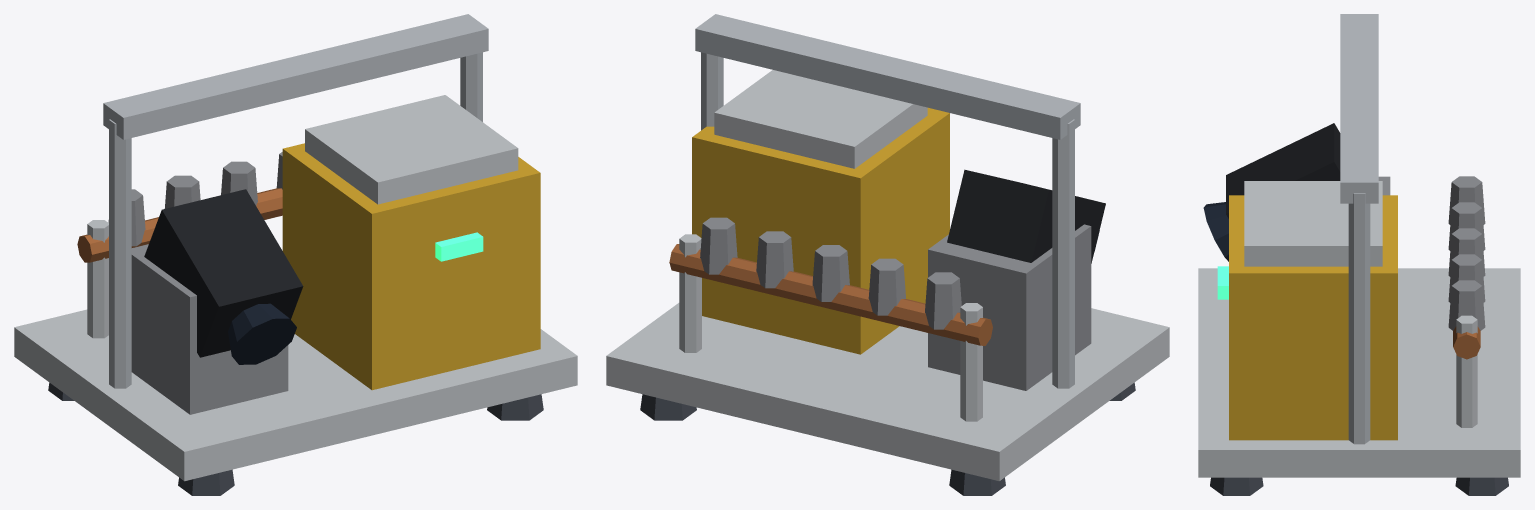
The model's file is edl-trn-medli2.glb.
3 renders of one model, left to right at view 1: azimuth 30°, elevation 25°; view 2: azimuth 150°, elevation 25°; view 3: azimuth 270°, elevation 25°, orthographic. The views are drawn at different scales.
Parts seen in each view (by area): view 1: EdlTrnMedli2_Aluminum, EdlTrnMedli2_FoilGold, EdlTrnMedli2_Steel, EdlTrnMedli2_Titanium, EdlTrnMedli2_HullBlack, EdlTrnMedli2_Visor, EdlTrnMedli2_Strap, EdlTrnMedli2_Copper, EdlTrnMedli2_LedGreen; view 2: EdlTrnMedli2_Aluminum, EdlTrnMedli2_FoilGold, EdlTrnMedli2_Steel, EdlTrnMedli2_Titanium, EdlTrnMedli2_HullBlack, EdlTrnMedli2_Copper, EdlTrnMedli2_Strap; view 3: EdlTrnMedli2_Aluminum, EdlTrnMedli2_FoilGold, EdlTrnMedli2_Steel, EdlTrnMedli2_Titanium, EdlTrnMedli2_HullBlack, EdlTrnMedli2_Strap, EdlTrnMedli2_Visor, EdlTrnMedli2_Copper, EdlTrnMedli2_LedGreen.
Boxes of the visible parts, <box> form: EdlTrnMedli2_Aluminum: <box>14,95,577,481</box>; EdlTrnMedli2_FoilGold: <box>282,143,540,390</box>; EdlTrnMedli2_Steel: <box>103,14,488,388</box>; EdlTrnMedli2_Titanium: <box>108,152,288,414</box>; EdlTrnMedli2_HullBlack: <box>144,189,303,357</box>; EdlTrnMedli2_Visor: <box>228,303,296,364</box>; EdlTrnMedli2_Strap: <box>48,382,543,495</box>; EdlTrnMedli2_Copper: <box>77,188,282,262</box>; EdlTrnMedli2_LedGreen: <box>435,232,483,261</box>; EdlTrnMedli2_Aluminum: <box>606,70,1169,481</box>; EdlTrnMedli2_FoilGold: <box>692,107,949,354</box>; EdlTrnMedli2_Steel: <box>695,14,1080,388</box>; EdlTrnMedli2_Titanium: <box>700,217,1091,390</box>; EdlTrnMedli2_HullBlack: <box>947,169,1105,263</box>; EdlTrnMedli2_Copper: <box>669,244,992,345</box>; EdlTrnMedli2_Strap: <box>640,382,1135,495</box>; EdlTrnMedli2_Aluminum: <box>1198,181,1520,477</box>; EdlTrnMedli2_FoilGold: <box>1229,195,1397,440</box>; EdlTrnMedli2_Steel: <box>1340,14,1378,444</box>; EdlTrnMedli2_Titanium: <box>1378,176,1485,330</box>; EdlTrnMedli2_HullBlack: <box>1226,123,1340,218</box>; EdlTrnMedli2_Strap: <box>1210,477,1508,495</box>; EdlTrnMedli2_Visor: <box>1203,202,1228,261</box>; EdlTrnMedli2_Copper: <box>1453,326,1480,359</box>; EdlTrnMedli2_LedGreen: <box>1217,266,1228,299</box>.
Bounding box in the file's own units: 0.56 × 0.455 × 0.42.
